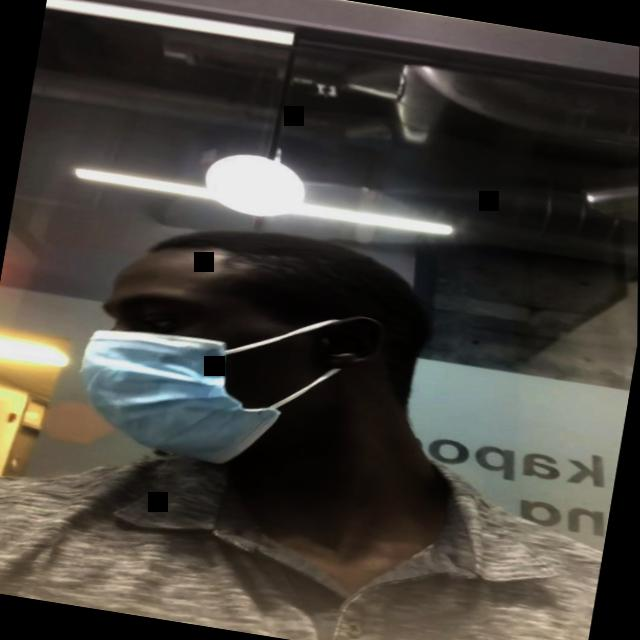Mask: (73, 237, 393, 488)
